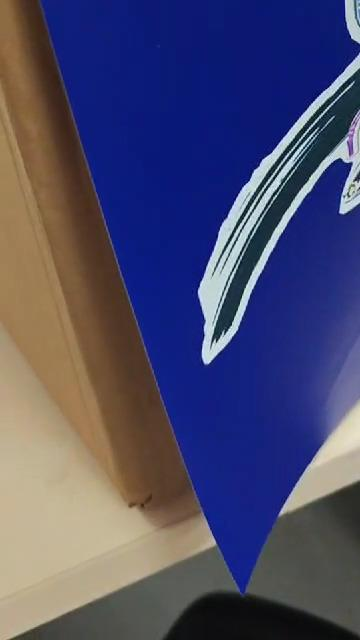B_R1: (199, 0, 360, 372)
